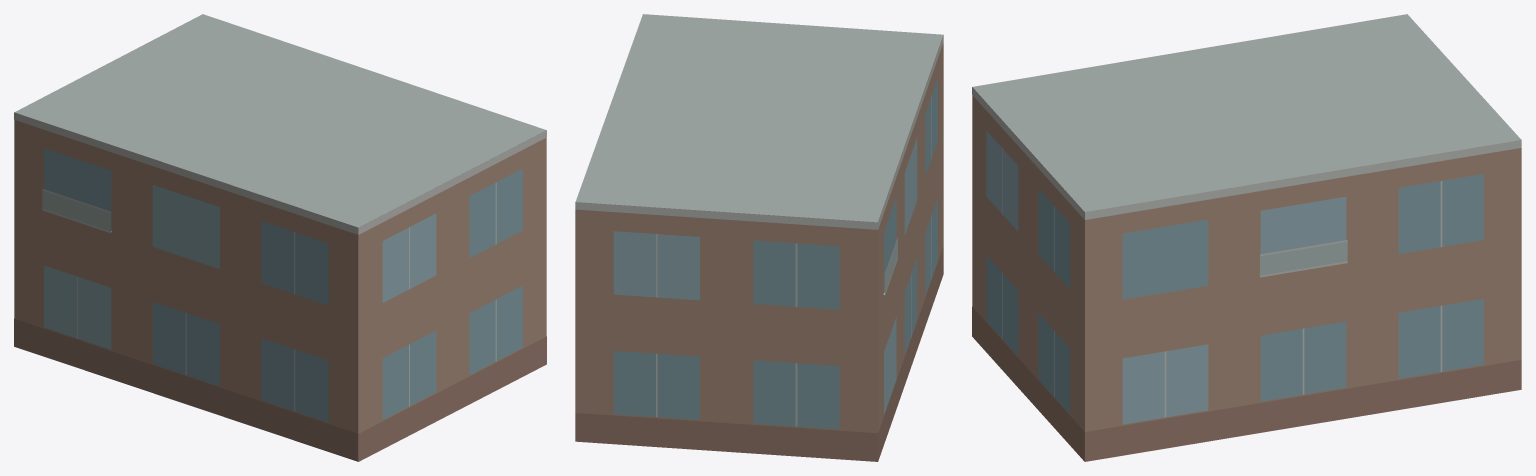
File: survey-upis-32854697.glb
The picture shows the model from 3 angles, left to right: view 1: azimuth 30°, elevation 25°; view 2: azimuth 150°, elevation 25°; view 3: azimuth 270°, elevation 25°; orthographic projection. The views are drawn at different scales.
Visible parts, largest first — view 1: survey-upis-32854697.tmp; view 2: survey-upis-32854697.tmp; view 3: survey-upis-32854697.tmp.
Part boxes in pixels (left/top/right/bottom): survey-upis-32854697.tmp: left=14, top=14, right=546, bottom=461; survey-upis-32854697.tmp: left=575, top=14, right=943, bottom=461; survey-upis-32854697.tmp: left=972, top=14, right=1521, bottom=461.
Size of the model in its own units: 13.29 by 7.8 by 15.57.
